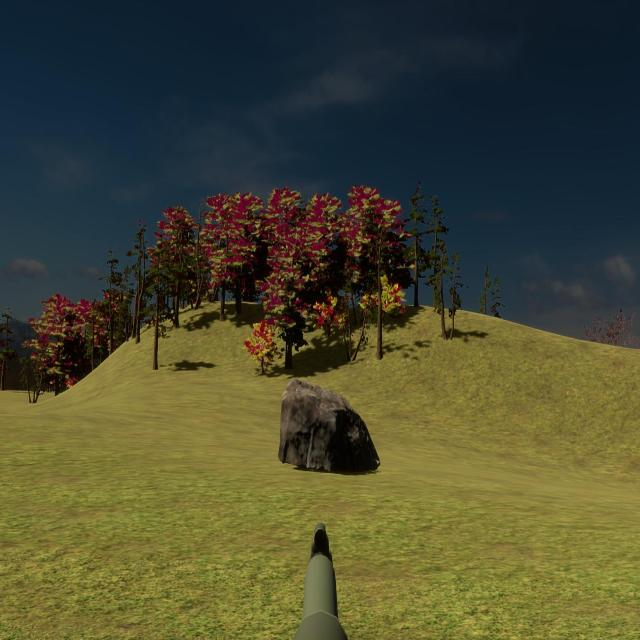rock: (278, 382, 381, 478)
turret: (294, 527, 350, 639)
